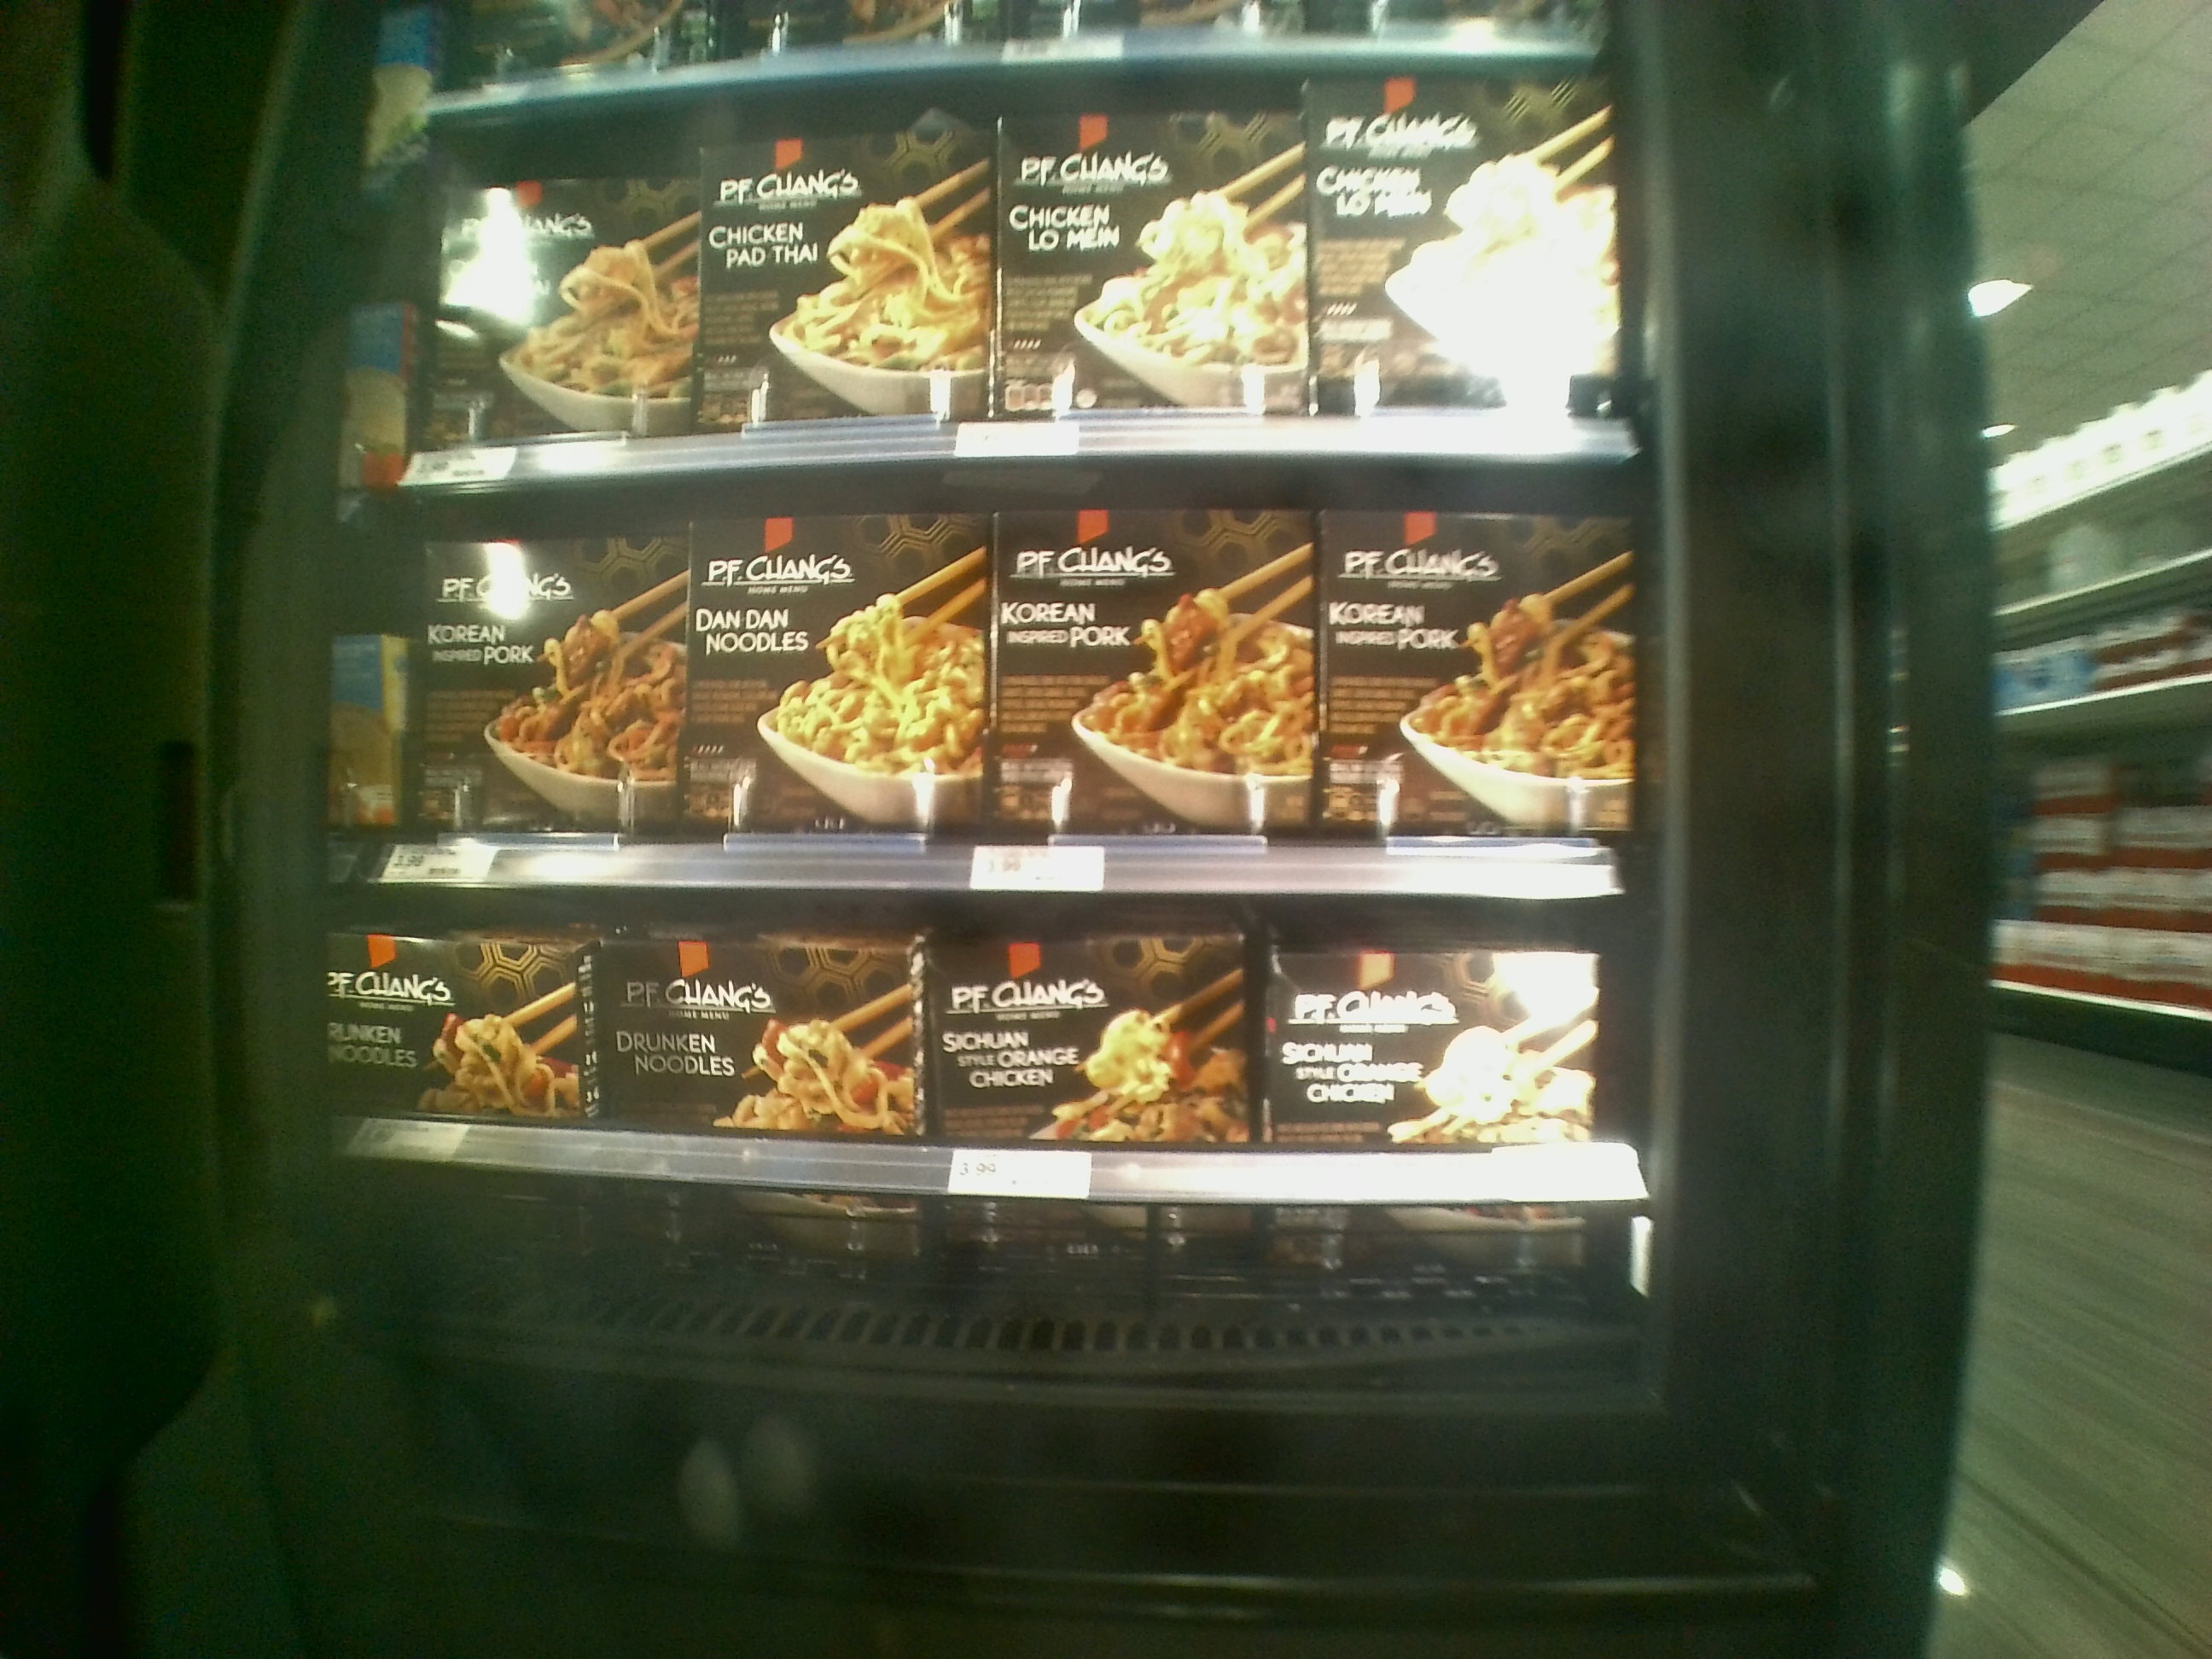shelf: (338, 471, 1642, 910), (333, 877, 1670, 1202)
